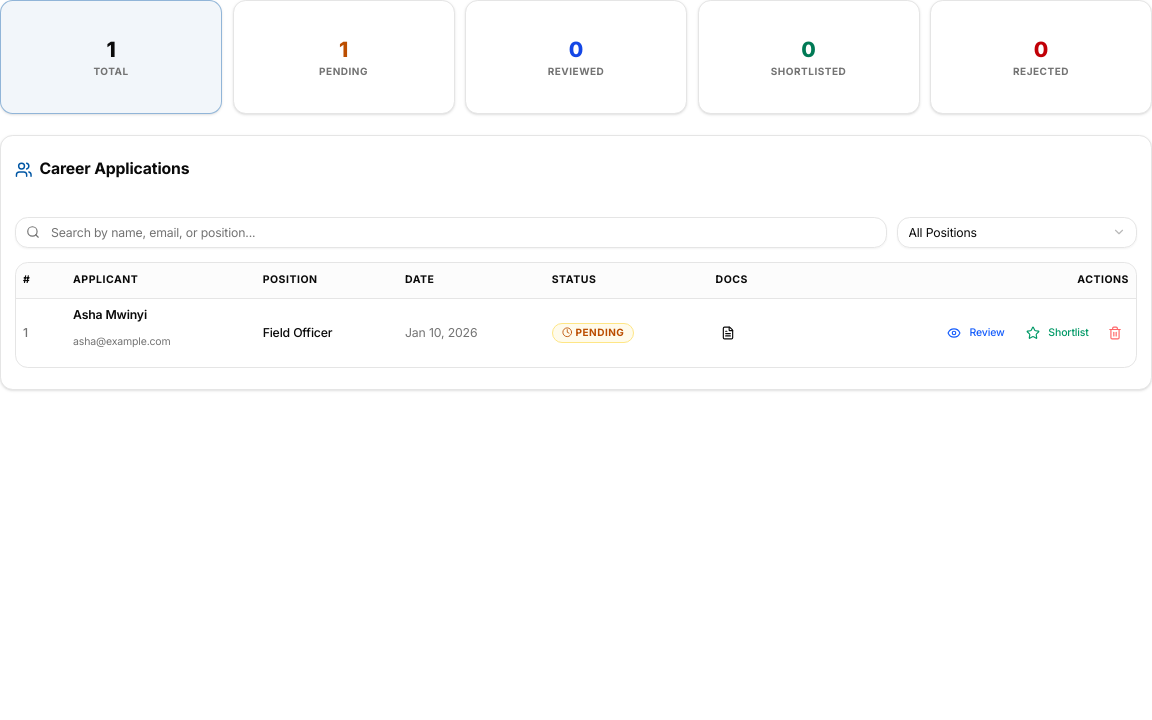
Test: HRApplicationsSubtab › deletes an application when the confirmation is accepted
The delete button is the last icon-only button in the row's actions cell.
Click the 4th button.
click(1115, 333)  # box [1101,319,1129,347]
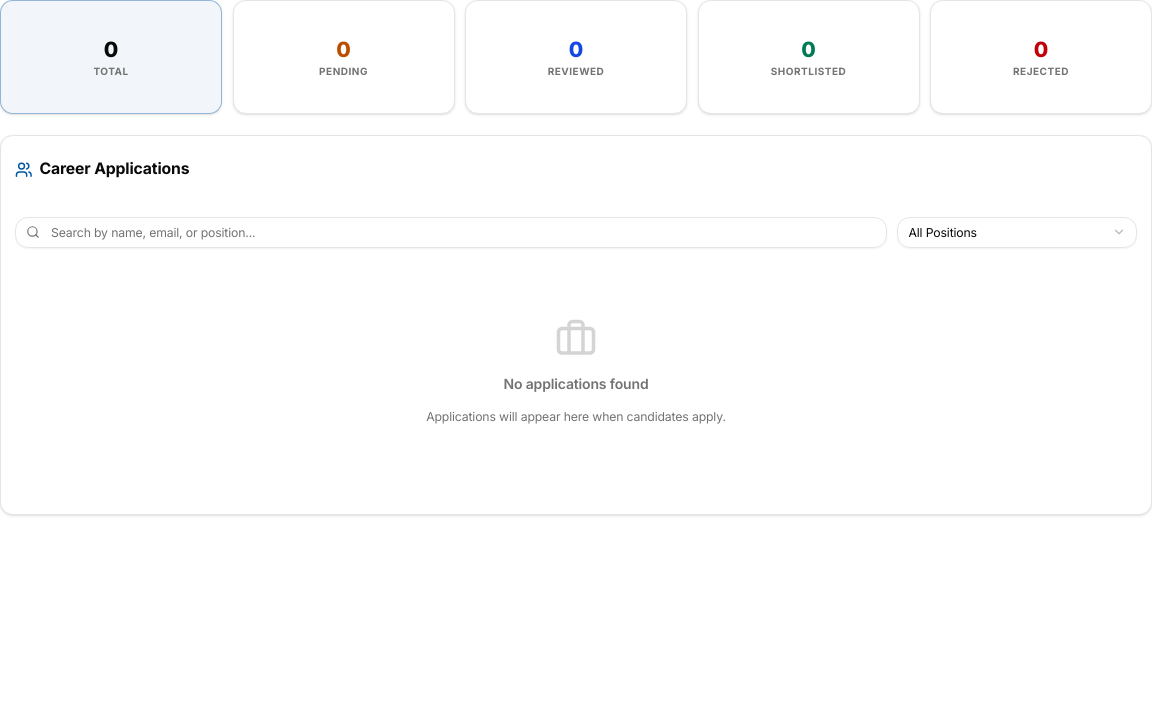
Expected: the text "Asha Mwinyi" is gone
